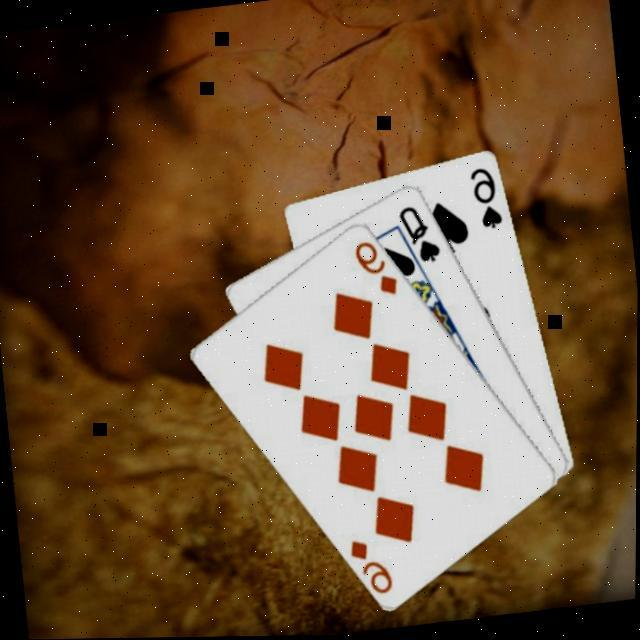6S: (467, 165, 508, 236)
9D: (351, 235, 403, 304), (347, 534, 398, 603)
QS: (395, 202, 445, 271)
